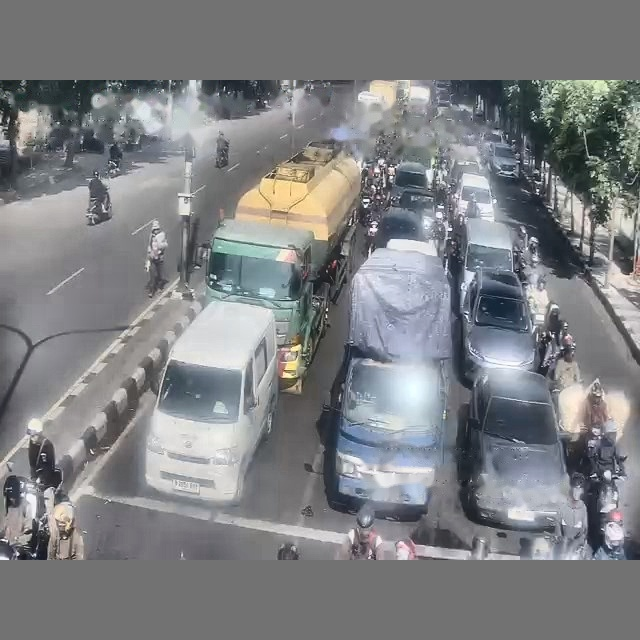Mobil: (459, 369, 568, 531), (461, 268, 537, 379), (375, 207, 425, 248), (455, 173, 495, 221), (390, 161, 431, 203), (489, 143, 519, 179), (395, 188, 434, 214), (450, 160, 484, 186), (480, 129, 504, 160), (437, 89, 450, 107)
Motor: (0, 468, 61, 559), (86, 196, 111, 225), (215, 145, 228, 167), (107, 159, 120, 178)
Truk: (204, 140, 360, 393), (323, 248, 452, 516)
